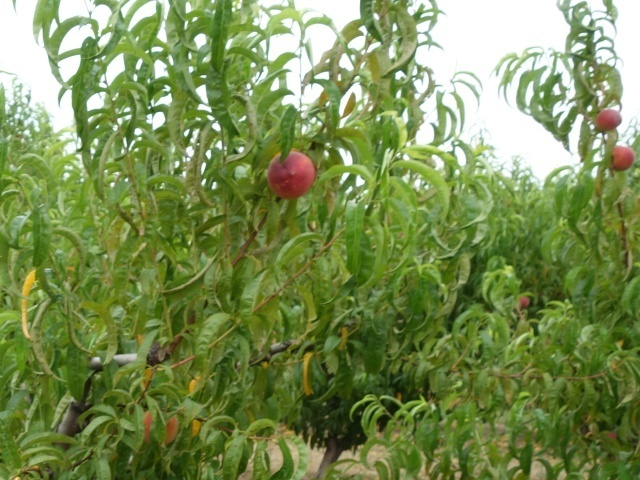peach: (262, 145, 323, 200), (140, 406, 182, 449), (603, 143, 637, 173), (590, 107, 624, 134)
